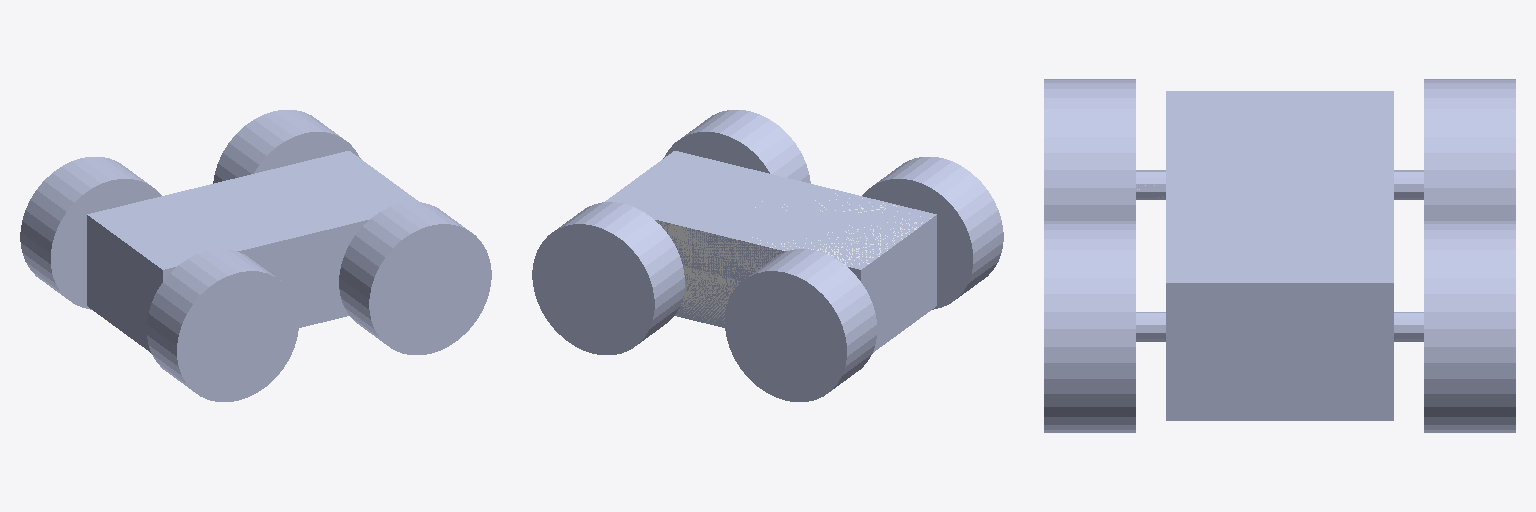
URDF robot description (graine_robot):
<?xml version="1.0" encoding="utf-8"?>
<!-- This URDF was automatically created by SolidWorks to URDF Exporter! Originally created by [author] ([email redacted]) 
     Commit Version: 1.6.0-4-g7f85cfe  Build Version: 1.6.7995.38578
     For more information, please see http://wiki.ros.org/sw_urdf_exporter -->
<robot
  name="graine_robot">
  <link
    name="base_link">
    <inertial>
      <origin
        xyz="0 -4.3368E-19 -0.025"
        rpy="0 0 0" />
      <mass
        value="0.56878" />
      <inertia
        ixx="0.00039528"
        ixy="-1.6544E-21"
        ixz="2.2581E-22"
        iyy="0.001191"
        iyz="-1.68E-21"
        izz="0.0013518" />
    </inertial>
    <visual>
      <origin
        xyz="0 0 0"
        rpy="0 0 0" />
      <geometry>
        <mesh
          filename="package://graine_robot/meshes/base_link.STL" />
      </geometry>
      <material
        name="">
        <color
          rgba="0.79216 0.81961 0.93333 1" />
      </material>
    </visual>
    <collision>
      <origin
        xyz="0 0 0"
        rpy="0 0 0" />
      <geometry>
        <mesh
          filename="package://graine_robot/meshes/base_link.STL" />
      </geometry>
    </collision>
  </link>
  <link
    name="wheel1_Link">
    <inertial>
      <origin
        xyz="0 -0.014932 -6.9389E-18"
        rpy="0 0 0" />
      <mass
        value="0.11467" />
      <inertia
        ixx="4.3926E-05"
        ixy="-1.1835E-37"
        ixz="-1.4583E-39"
        iyy="7.0705E-05"
        iyz="-4.4124E-23"
        izz="4.3926E-05" />
    </inertial>
    <visual>
      <origin
        xyz="0 0 0"
        rpy="0 0 0" />
      <geometry>
        <mesh
          filename="package://graine_robot/meshes/wheel1_Link.STL" />
      </geometry>
      <material
        name="">
        <color
          rgba="0.79216 0.81961 0.93333 1" />
      </material>
    </visual>
    <collision>
      <origin
        xyz="0 0 0"
        rpy="0 0 0" />
      <geometry>
        <mesh
          filename="package://graine_robot/meshes/wheel1_Link.STL" />
      </geometry>
    </collision>
  </link>
  <joint
    name="wheel1"
    type="continuous">
    <origin
      xyz="0.055 0.0775 -0.025"
      rpy="0 0 0" />
    <parent
      link="base_link" />
    <child
      link="wheel1_Link" />
    <axis
      xyz="0 1 0" />
  </joint>
  <link
    name="wheel2_Link">
    <inertial>
      <origin
        xyz="-1.3878E-17 -0.014932 -6.0715E-18"
        rpy="0 0 0" />
      <mass
        value="0.11467" />
      <inertia
        ixx="4.3926E-05"
        ixy="-1.1835E-37"
        ixz="-1.4583E-39"
        iyy="7.0705E-05"
        iyz="-4.4124E-23"
        izz="4.3926E-05" />
    </inertial>
    <visual>
      <origin
        xyz="0 0 0"
        rpy="0 0 0" />
      <geometry>
        <mesh
          filename="package://graine_robot/meshes/wheel2_Link.STL" />
      </geometry>
      <material
        name="">
        <color
          rgba="0.79216 0.81961 0.93333 1" />
      </material>
    </visual>
    <collision>
      <origin
        xyz="0 0 0"
        rpy="0 0 0" />
      <geometry>
        <mesh
          filename="package://graine_robot/meshes/wheel2_Link.STL" />
      </geometry>
    </collision>
  </link>
  <joint
    name="wheel2"
    type="continuous">
    <origin
      xyz="-0.055 0.0775 -0.025"
      rpy="0 0 0" />
    <parent
      link="base_link" />
    <child
      link="wheel2_Link" />
    <axis
      xyz="0 1 0" />
  </joint>
  <link
    name="wheel3_Link">
    <inertial>
      <origin
        xyz="-1.3878E-17 0.014932 -6.0715E-18"
        rpy="0 0 0" />
      <mass
        value="0.11467" />
      <inertia
        ixx="4.3926E-05"
        ixy="-1.1835E-37"
        ixz="1.4583E-39"
        iyy="7.0705E-05"
        iyz="4.4124E-23"
        izz="4.3926E-05" />
    </inertial>
    <visual>
      <origin
        xyz="0 0 0"
        rpy="0 0 0" />
      <geometry>
        <mesh
          filename="package://graine_robot/meshes/wheel3_Link.STL" />
      </geometry>
      <material
        name="">
        <color
          rgba="0.79216 0.81961 0.93333 1" />
      </material>
    </visual>
    <collision>
      <origin
        xyz="0 0 0"
        rpy="0 0 0" />
      <geometry>
        <mesh
          filename="package://graine_robot/meshes/wheel3_Link.STL" />
      </geometry>
    </collision>
  </link>
  <joint
    name="wheel3"
    type="continuous">
    <origin
      xyz="-0.055 -0.0775 -0.025"
      rpy="0 0 0" />
    <parent
      link="base_link" />
    <child
      link="wheel3_Link" />
    <axis
      xyz="0 1 0" />
  </joint>
  <link
    name="wheel4_Link">
    <inertial>
      <origin
        xyz="0 0 0"
        rpy="0 0 0" />
      <mass
        value="0" />
      <inertia
        ixx="0"
        ixy="0"
        ixz="0"
        iyy="0"
        iyz="0"
        izz="0" />
    </inertial>
    <visual>
      <origin
        xyz="0 0 0"
        rpy="0 0 0" />
      <geometry>
        <mesh
          filename="package://graine_robot/meshes/wheel4_Link.STL" />
      </geometry>
      <material
        name="">
        <color
          rgba="1 1 1 1" />
      </material>
    </visual>
    <collision>
      <origin
        xyz="0 0 0"
        rpy="0 0 0" />
      <geometry>
        <mesh
          filename="package://graine_robot/meshes/wheel4_Link.STL" />
      </geometry>
    </collision>
  </link>
  <joint
    name="wheel4"
    type="continuous">
    <origin
      xyz="0.055 -0.0775 -0.025"
      rpy="0 0 0" />
    <parent
      link="base_link" />
    <child
      link="wheel4_Link" />
    <axis
      xyz="0 1 0" />
  </joint>
</robot>

--- Facts derived from the render (not from the file) ---
The picture shows the robot from 3 angles, left to right: view 1: azimuth 30°, elevation 25°; view 2: azimuth 150°, elevation 25°; view 3: azimuth 270°, elevation 25°; orthographic projection.
Robot: graine_robot — 5 links, 4 joints (4 continuous); root link base_link; default pose: every joint at zero.
Links seen in each view (by area): view 1: base_link, wheel1_Link, wheel2_Link, wheel3_Link; view 2: base_link, wheel3_Link, wheel2_Link, wheel1_Link, wheel4_Link; view 3: base_link, wheel1_Link, wheel2_Link.
Boxes of the visible links, bbox=[...] form: base_link: bbox=[20, 110, 491, 401]; wheel1_Link: bbox=[26, 180, 368, 390]; wheel2_Link: bbox=[90, 135, 490, 334]; wheel3_Link: bbox=[87, 151, 417, 268]; base_link: bbox=[532, 110, 1003, 401]; wheel3_Link: bbox=[605, 155, 933, 327]; wheel2_Link: bbox=[533, 134, 934, 343]; wheel1_Link: bbox=[674, 182, 999, 386]; wheel4_Link: bbox=[655, 193, 930, 323]; base_link: bbox=[1044, 79, 1515, 432]; wheel1_Link: bbox=[1044, 91, 1515, 340]; wheel2_Link: bbox=[1044, 91, 1508, 420].
Size in the robot's own frame: 0.1798 by 0.155 by 0.07 metres.
5 mesh visuals loaded from 5 distinct referenced files (5 binary STL).